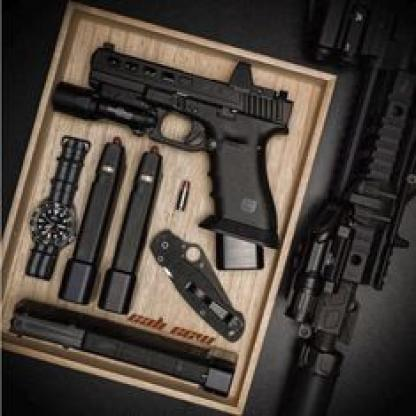Gun: (272, 0, 416, 416)
Knife: (150, 227, 247, 342)
Pistol: (50, 37, 294, 272)
